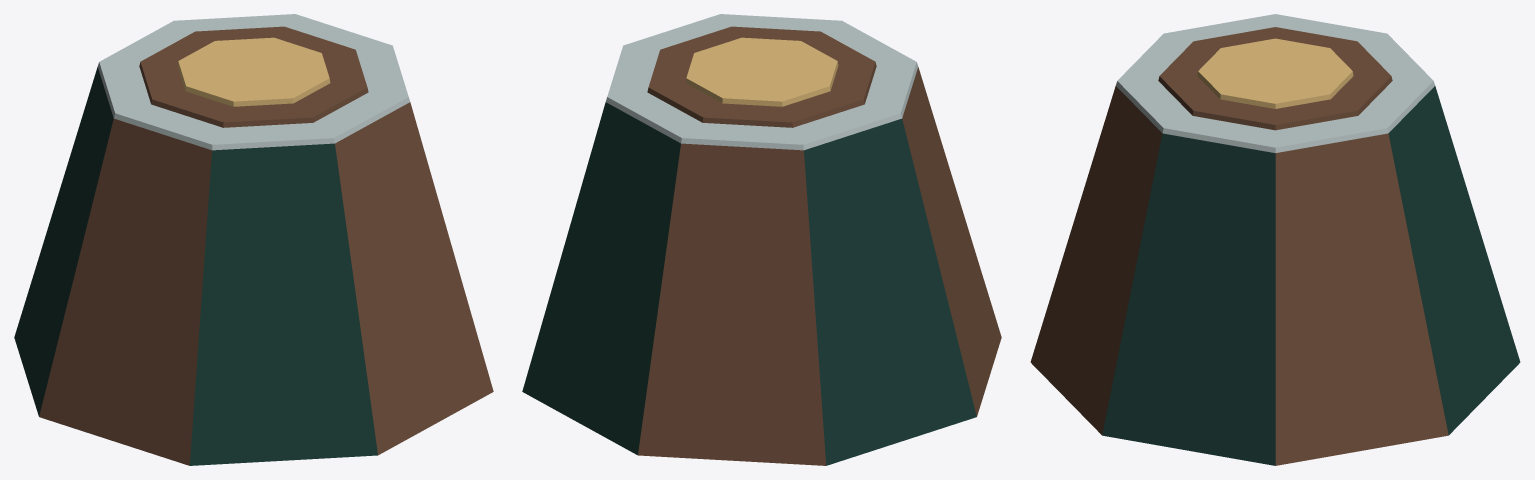
Rendered from stump.glb.
3 views of the same model, side by side, from view 1: azimuth 30°, elevation 25°; view 2: azimuth 150°, elevation 25°; view 3: azimuth 270°, elevation 25° (orthographic).
Parts seen in each view (by area): view 1: stump; view 2: stump; view 3: stump.
Part boxes in pixels (box(x1,y1,x2,y2)): stump: box(14, 14, 493, 465); stump: box(522, 14, 1001, 465); stump: box(1030, 14, 1520, 465).
Bounding box in the file's own units: 1.38 × 0.905 × 1.38.
